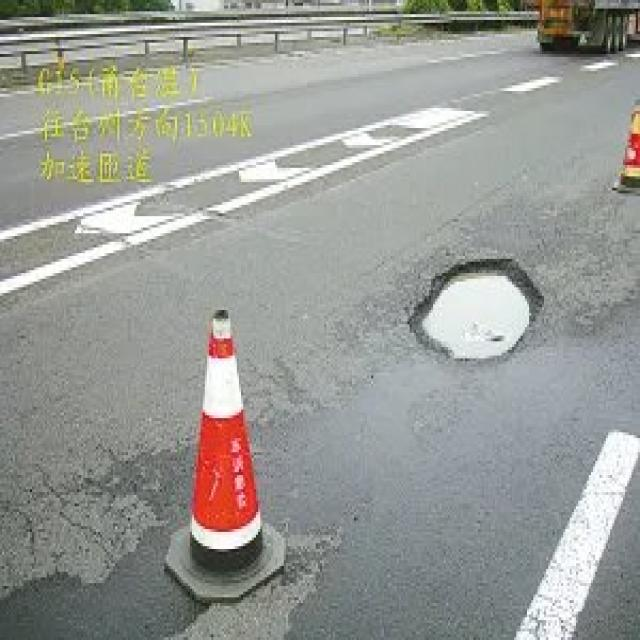Pothole: (416, 253, 540, 364)
